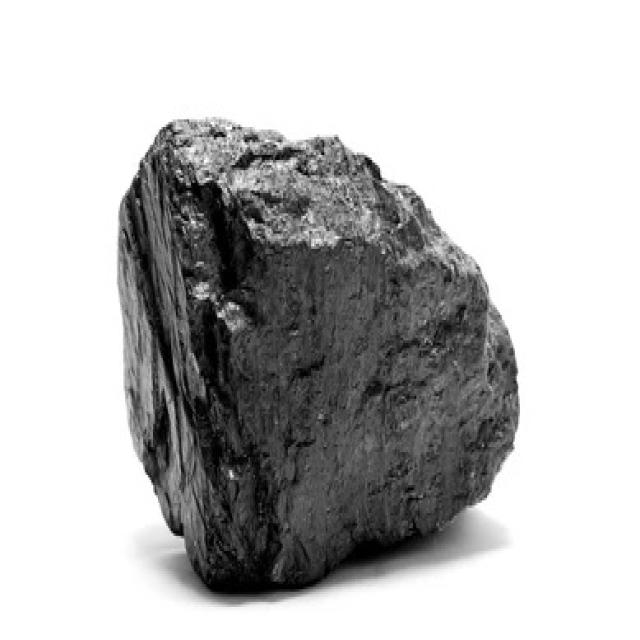Sedimentary: (107, 97, 525, 589)
